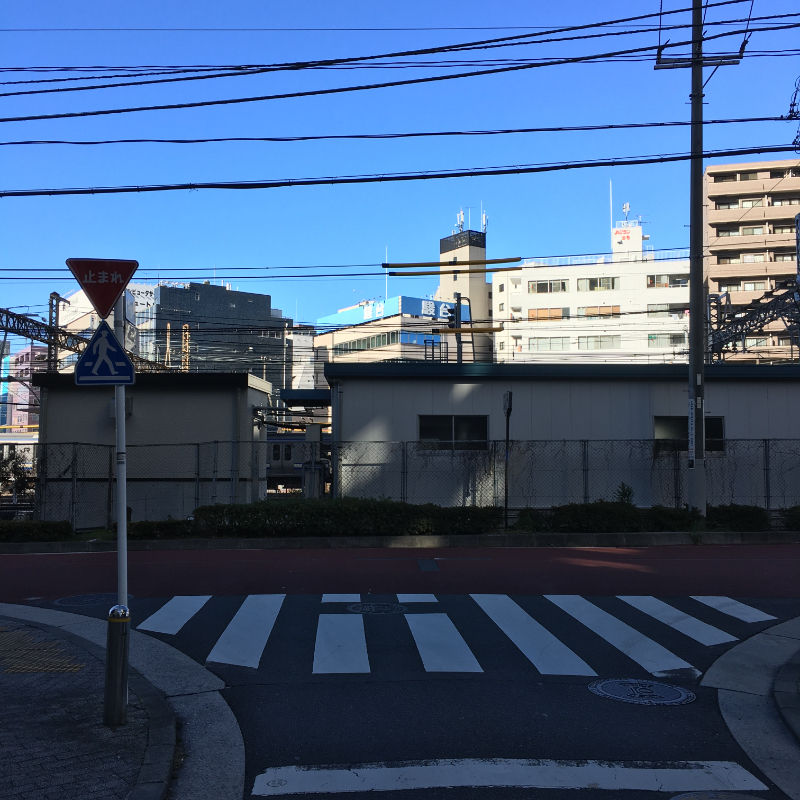STOP: (62, 256, 142, 322)
